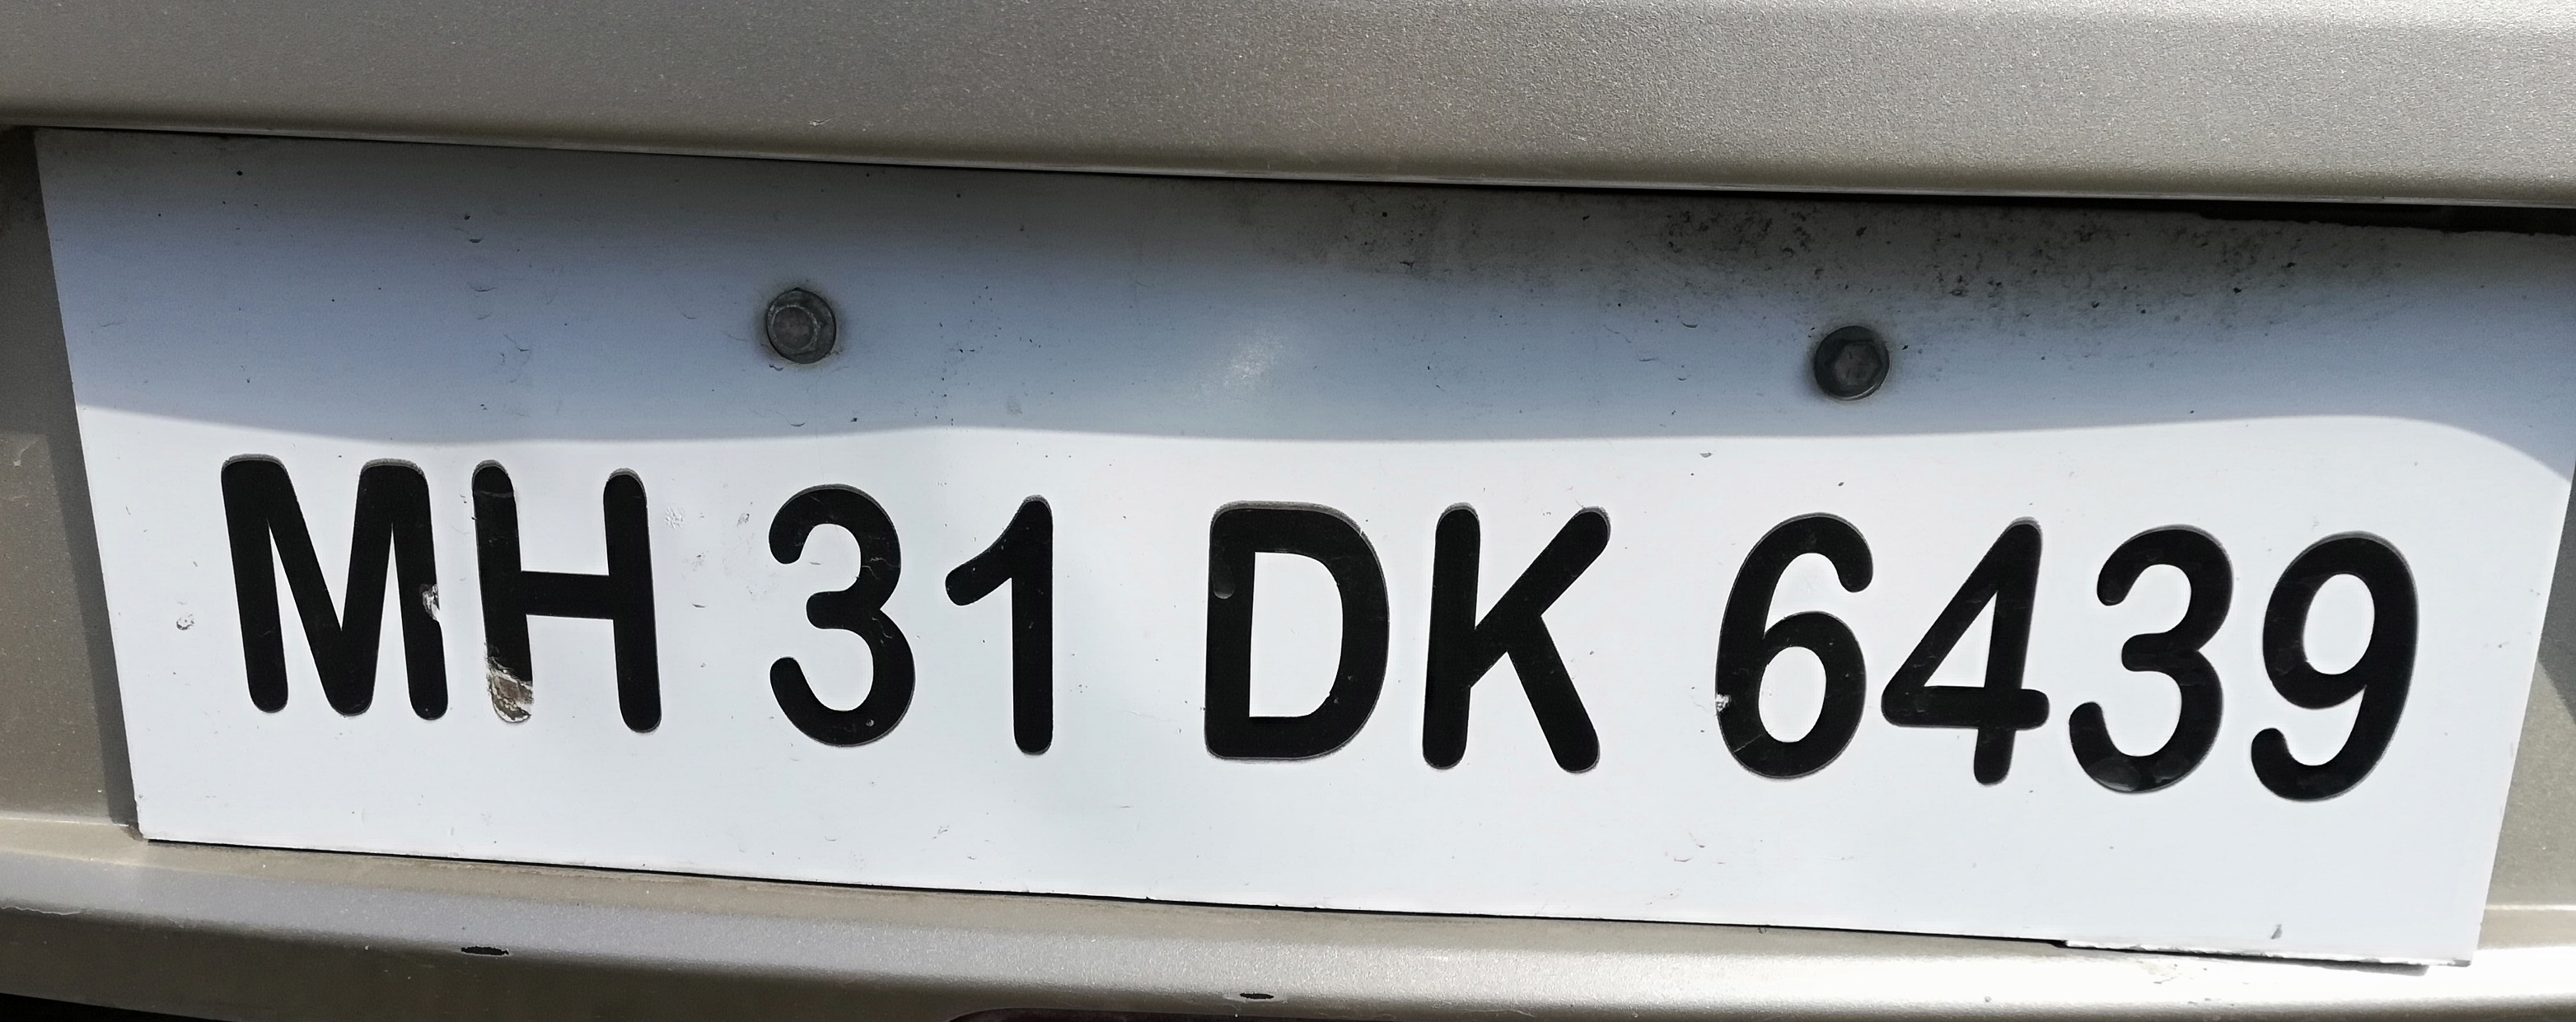numberplate: (30, 124, 2576, 968)
